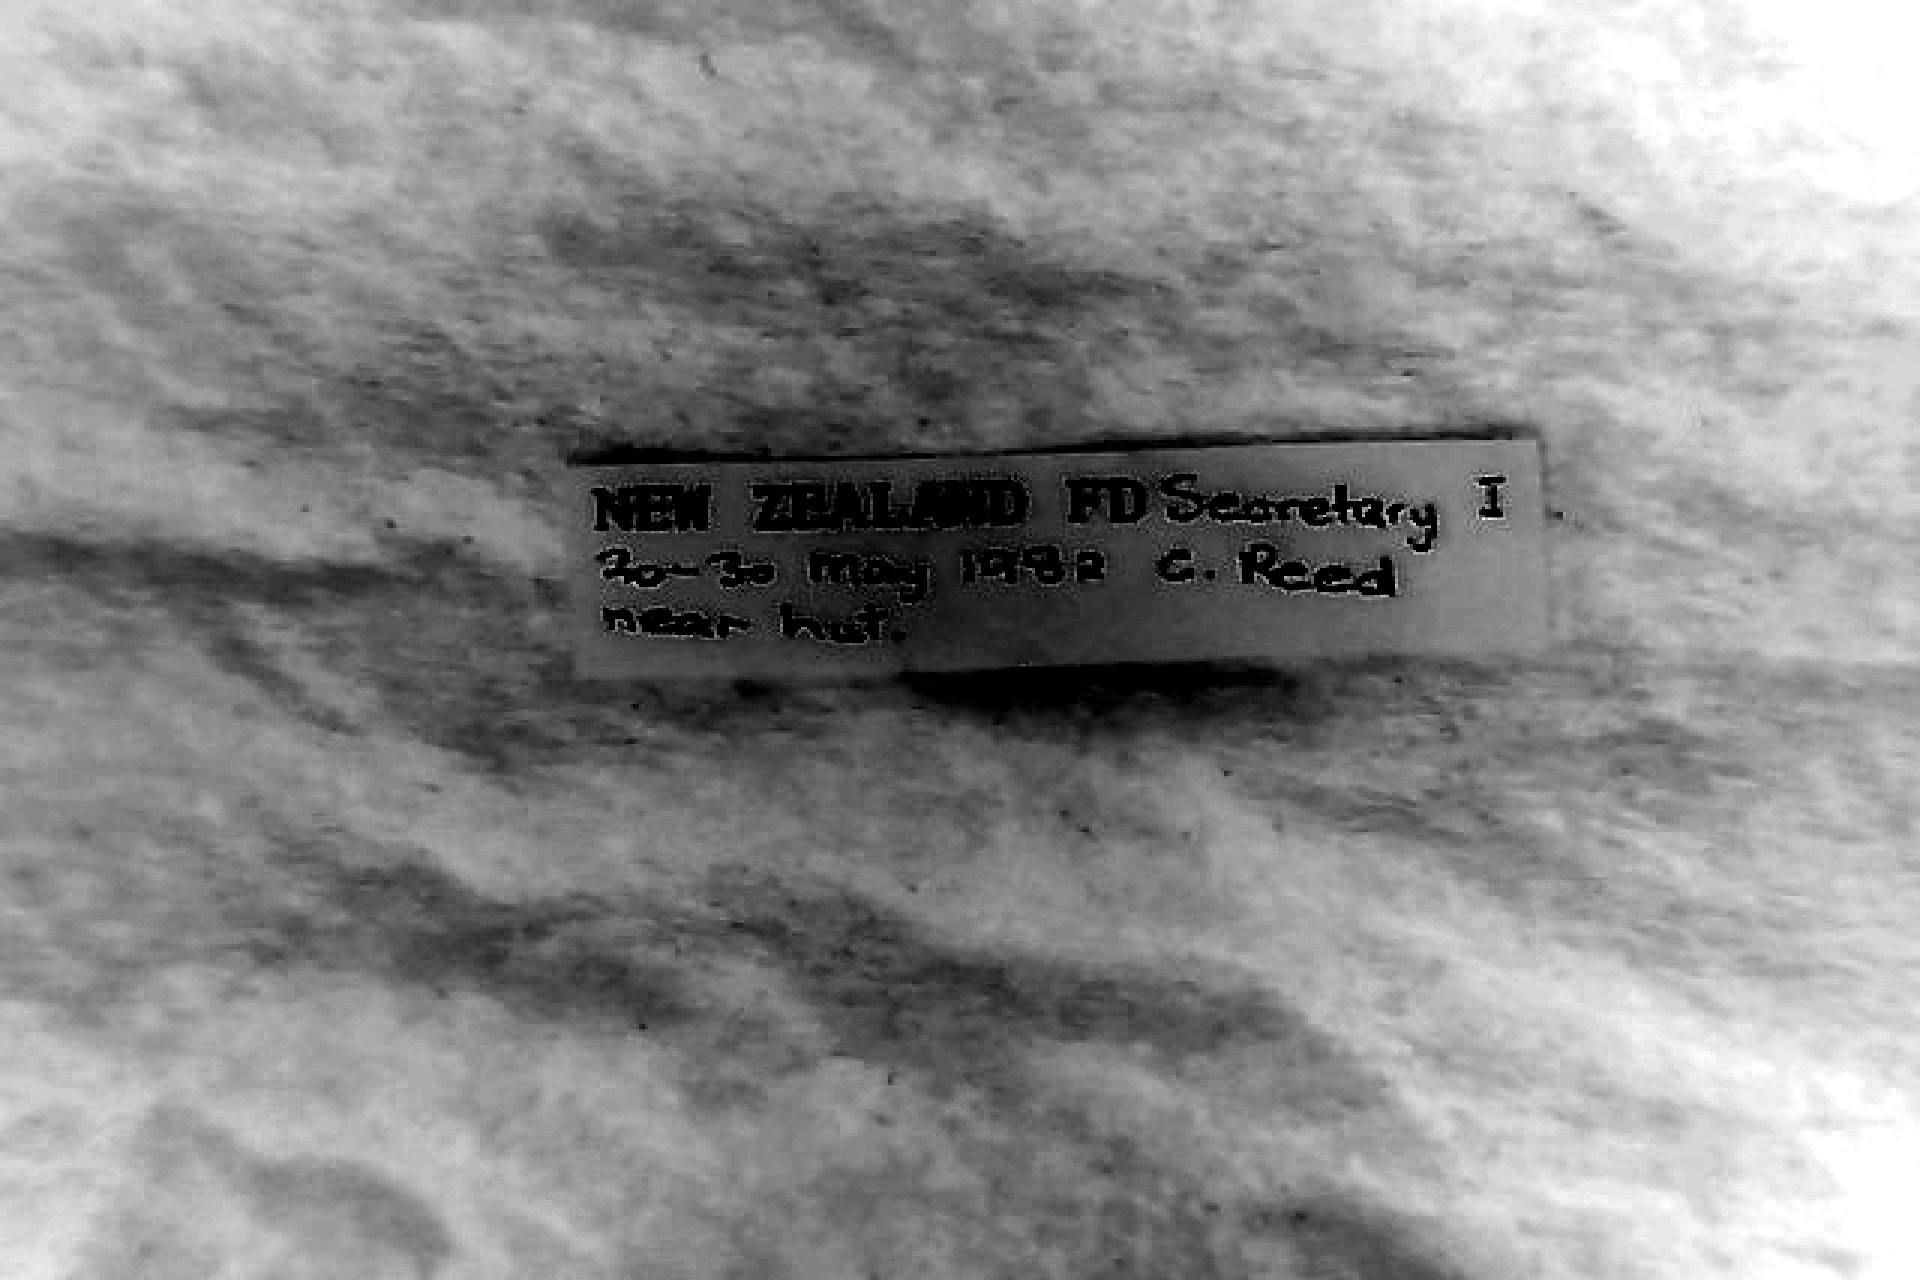mixed_label: (570, 440, 1546, 679)
